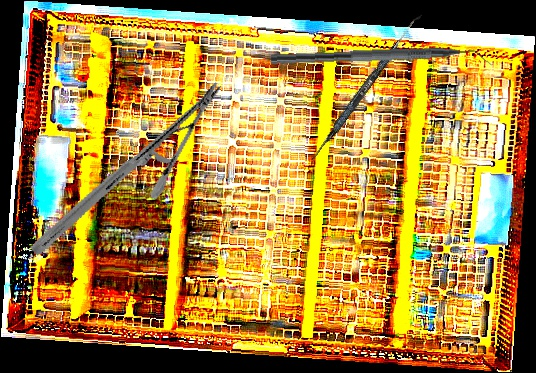Chopper: (270, 42, 494, 80)
Needle Holder: (28, 41, 225, 296)
Spatula Surgical: (309, 9, 423, 165)
